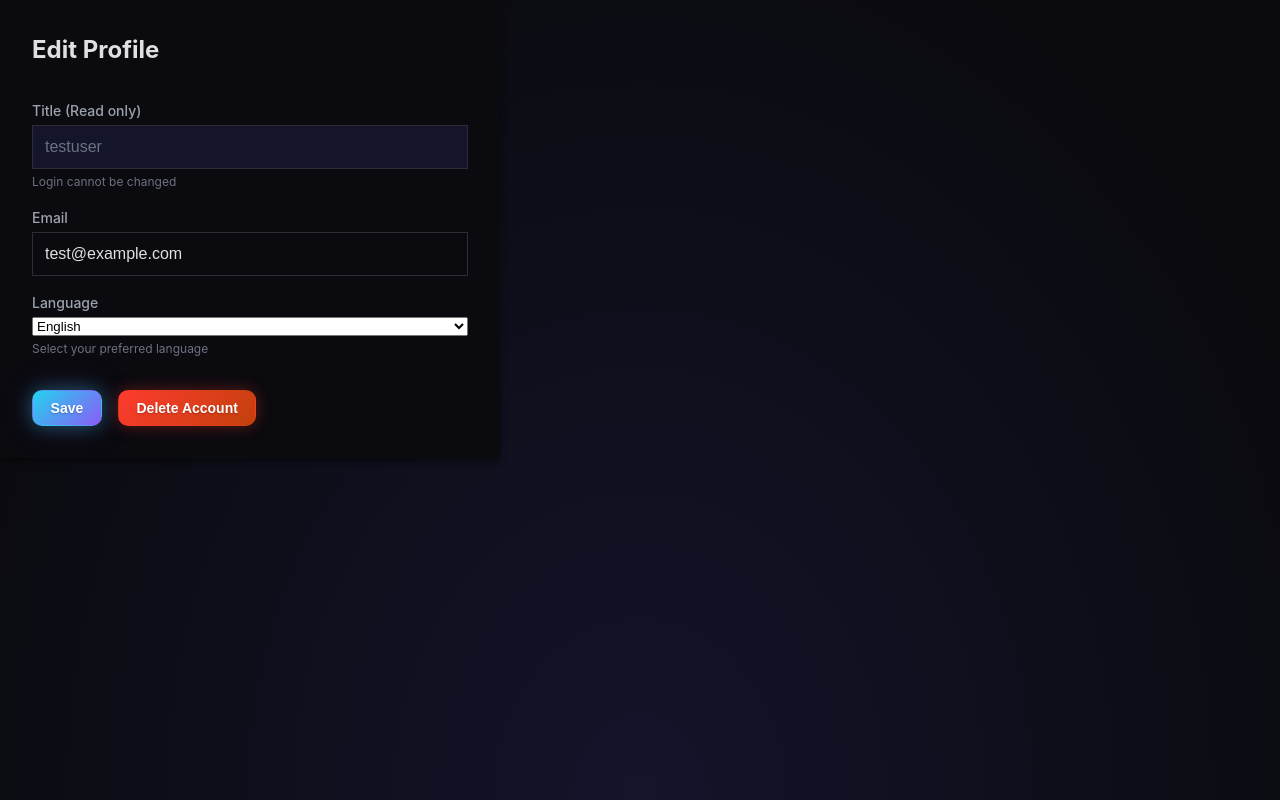
Test case: ProfileEditor › opens and cancels delete account modal
Click the button "Delete Account". click: (187, 408)
box: top-left (118, 390), bottom-right (256, 426)
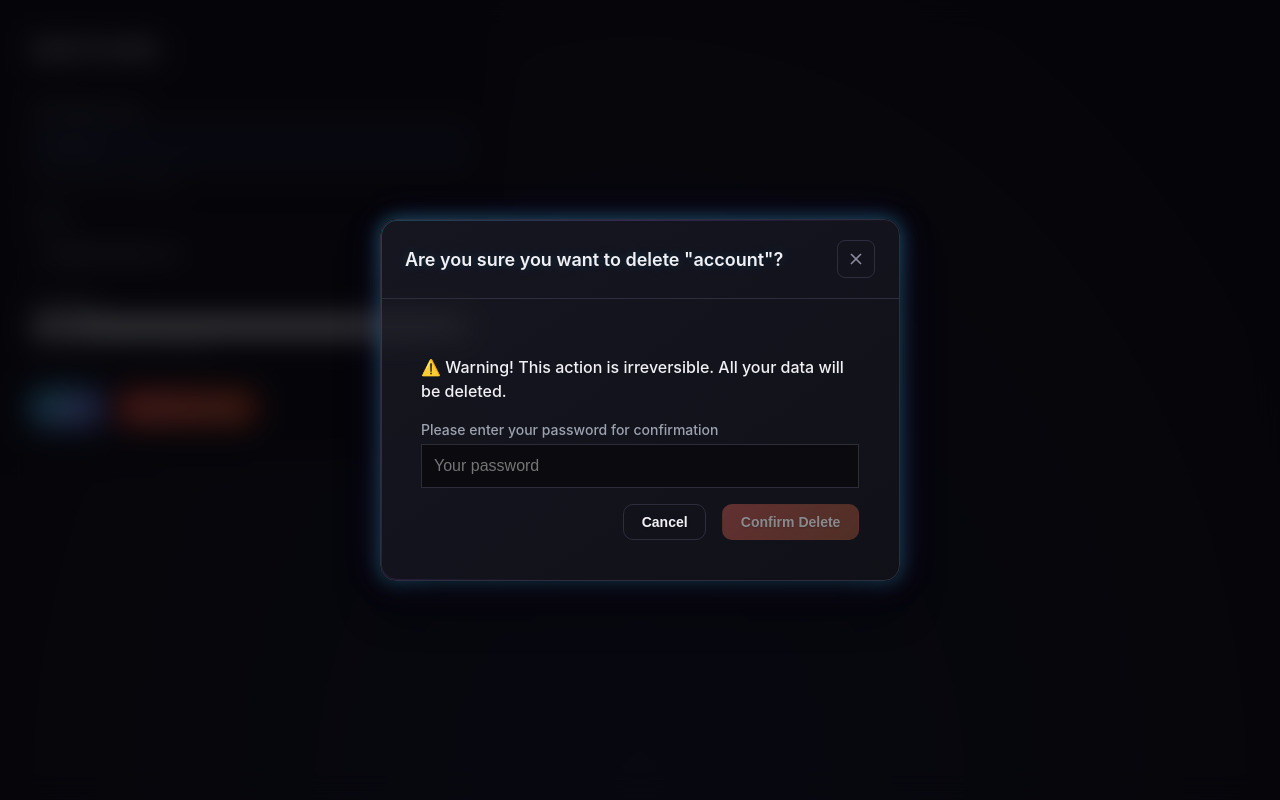
Result: the button "Cancel" is shown
Click the button "Cancel". click: (665, 522)
box: top-left (623, 504), bottom-right (706, 540)
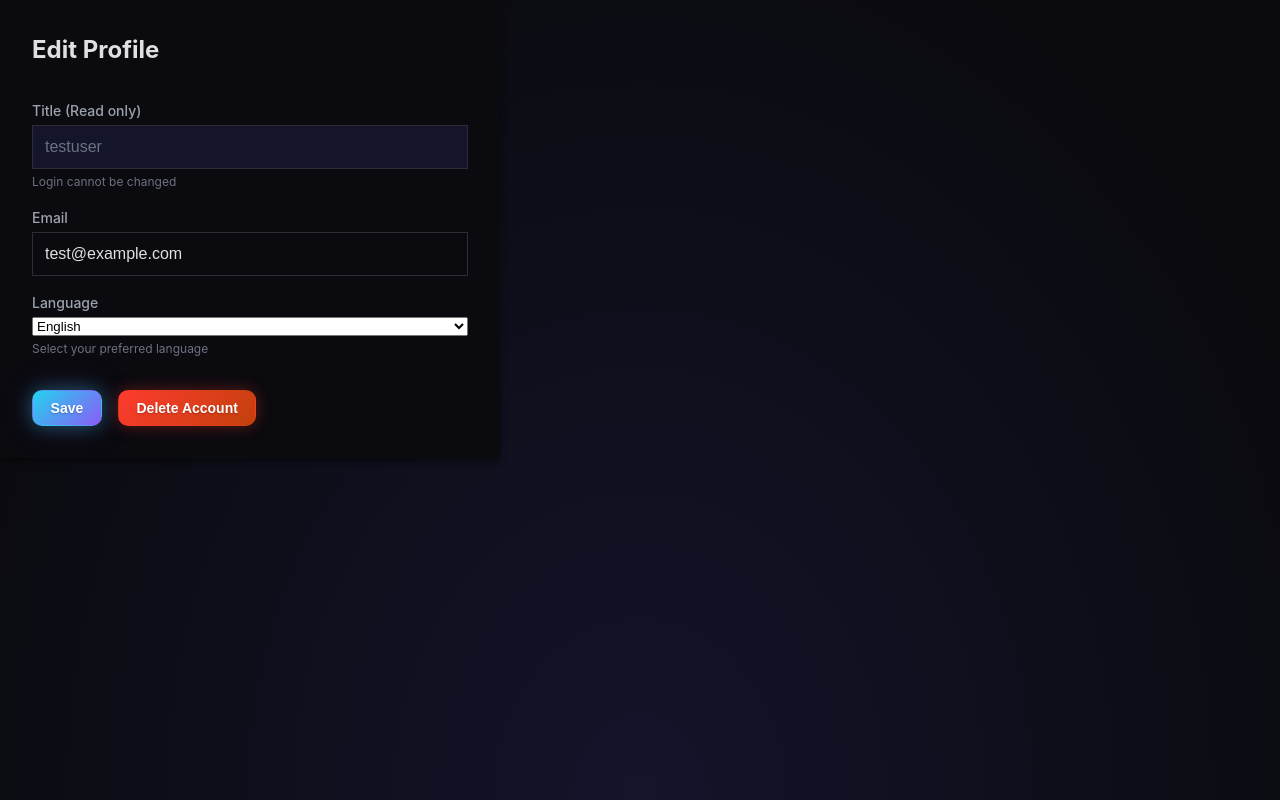
Result: the button "Cancel" is gone
